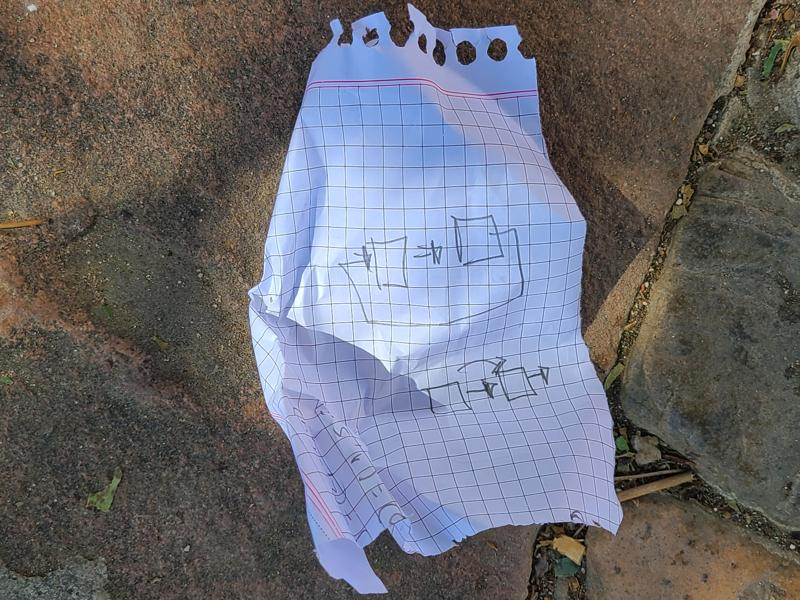papel: (247, 7, 624, 596)
